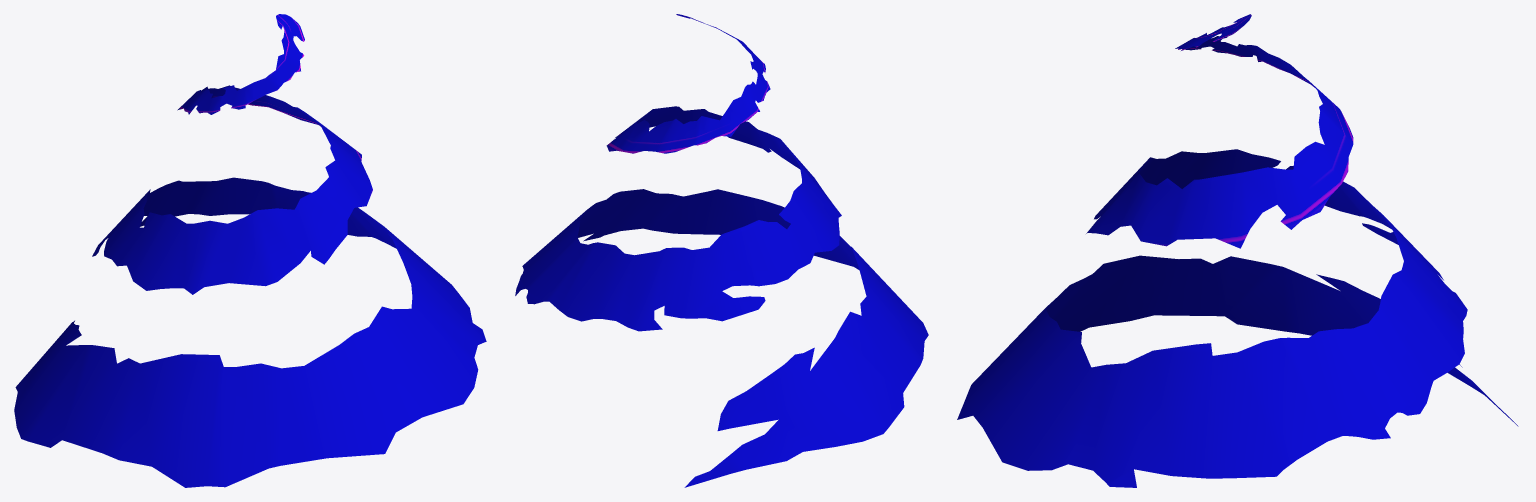
File: p_powertools_plasmadrill_meshspiral.fbx
The picture shows the model from 3 angles, left to right: view 1: azimuth 30°, elevation 25°; view 2: azimuth 150°, elevation 25°; view 3: azimuth 270°, elevation 25°; orthographic projection. The views are drawn at different scales.
Visible parts, largest first — view 1: Meshspiral_edit; view 2: Meshspiral_edit; view 3: Meshspiral_edit.
Part boxes in pixels (<box>): Meshspiral_edit: <box>14,14,486,487</box>; Meshspiral_edit: <box>515,14,928,487</box>; Meshspiral_edit: <box>957,14,1518,487</box>.
Bounding box in the file's own units: 4.56 × 4.34 × 4.62.
